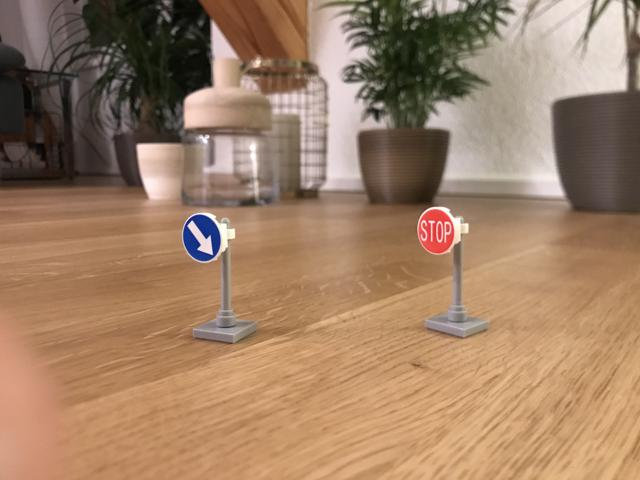rechts halten: (183, 212, 234, 262)
stop: (417, 206, 457, 257)
